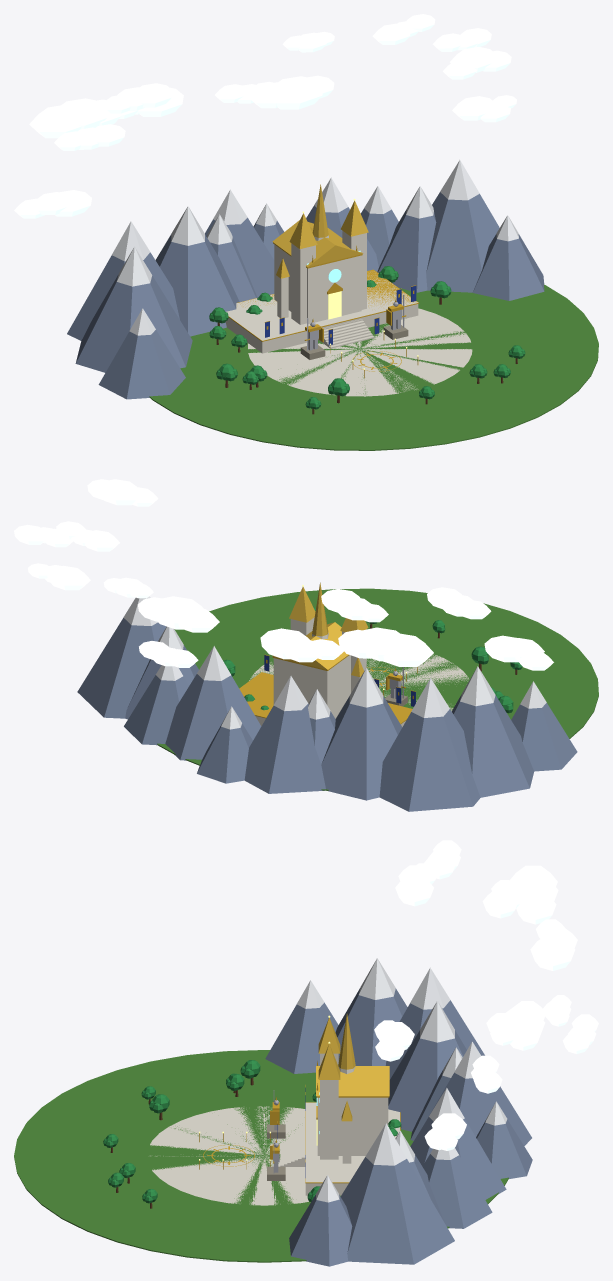
Rendered from santuario-paladino.glb.
3 views of the same model, one above another, from view 1: azimuth 30°, elevation 25°; view 2: azimuth 150°, elevation 25°; view 3: azimuth 270°, elevation 25° (orthographic). The views are drawn at different scales.
Visible parts, largest first — view 1: Chao, Montanhas, Nuvens, Catedral, Plataforma, Arvores, Estatuas, Escada; view 2: Montanhas, Chao, Nuvens, Catedral, Plataforma, Arvores, Estatuas; view 3: Chao, Montanhas, Nuvens, Catedral, Plataforma, Arvores, Estatuas, Escada.
Boxes of the visible parts, x1,y1,x2,y2 form: Chao: (149,284,598,450); Montanhas: (67,160,544,399); Nuvens: (14,14,516,218); Catedral: (272,184,368,324); Plataforma: (225,269,419,353); Arvores: (209,266,525,414); Estatuas: (300,294,408,359); Escada: (315,319,374,348); Montanhas: (77,596,577,811); Chao: (157,588,598,790); Nuvens: (14,479,553,670); Catedral: (272,582,368,718); Plataforma: (239,672,412,726); Arvores: (223,607,522,713); Estatuas: (385,667,407,706); Chao: (14,1050,508,1262); Montanhas: (265,958,532,1266); Nuvens: (374,840,598,1150); Catedral: (316,1014,389,1163); Plataforma: (305,1102,400,1195); Arvores: (103,1060,401,1208); Estatuas: (267,1090,285,1180); Escada: (280,1135,305,1166).
Size of the model in its own units: 105 by 41.4 by 99.25.
